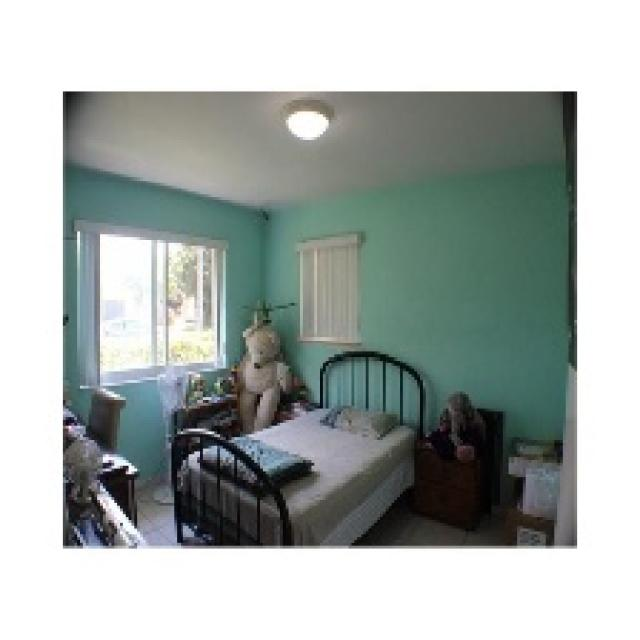Bed: (168, 348, 426, 546)
